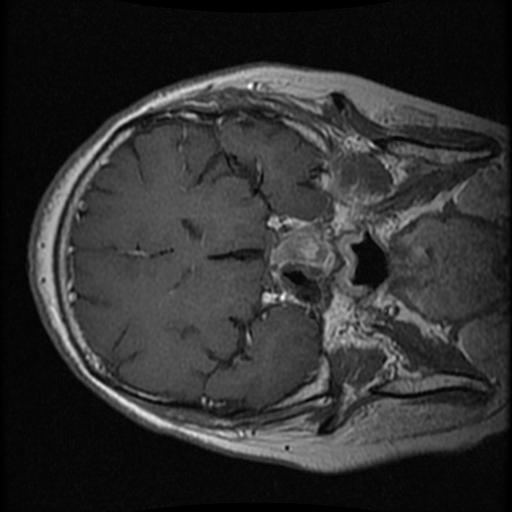pituitary tumour: (269, 222, 334, 272)
